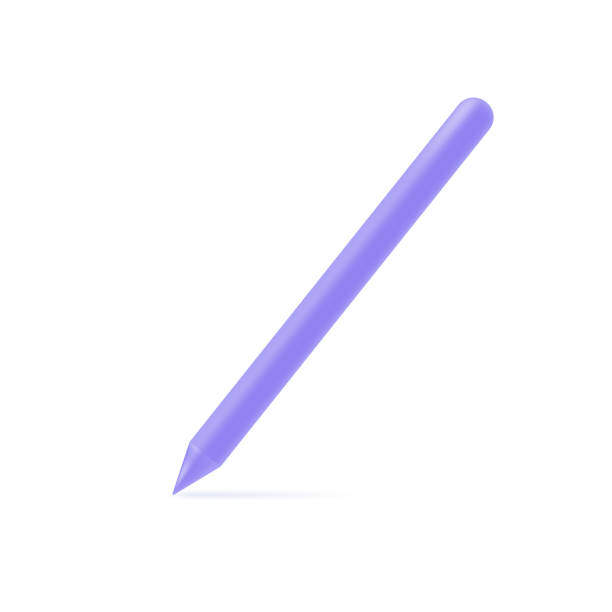pen: (161, 98, 541, 503)
